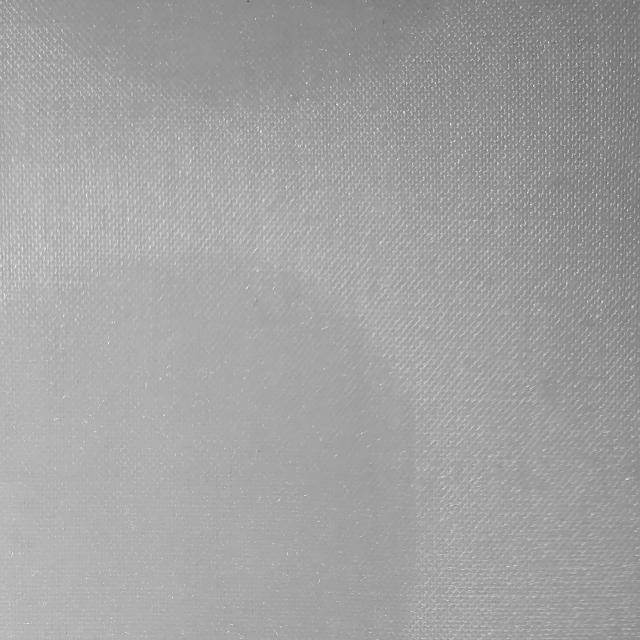Stain: (1, 260, 415, 640), (11, 0, 434, 109)
